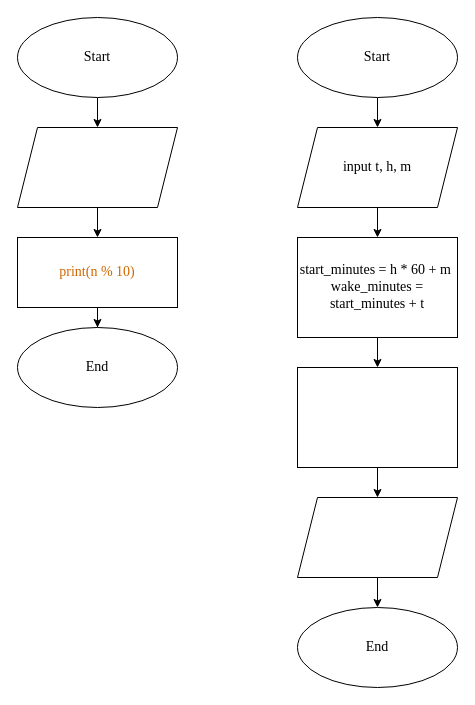
The diagram is 475 pixels wide and 705 high, and some of its shapes have lost their labels. The centre of each missing label's shape, as x and y in pixels:
input n1, n2, n3: the point at 97,167
print(wake_h, wake_m): the point at 377,537
wake_h = wake_minutes // 60 wake_m = wake_minutes % 60: the point at 377,417
